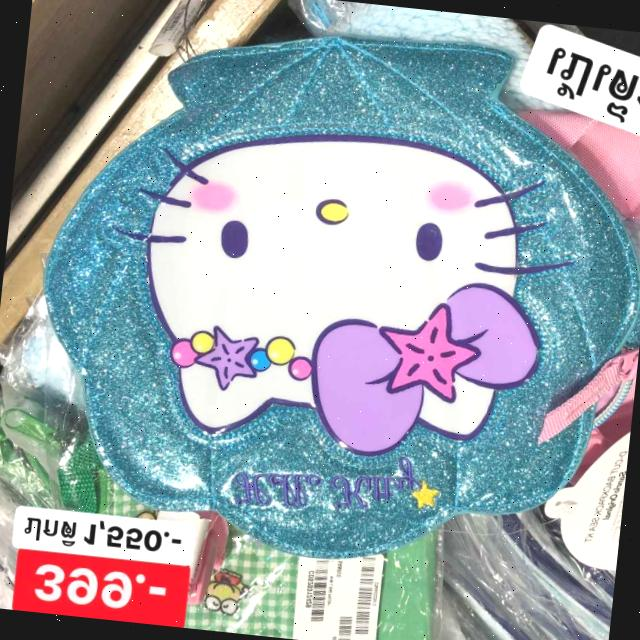Handbag: (8, 5, 640, 590)
